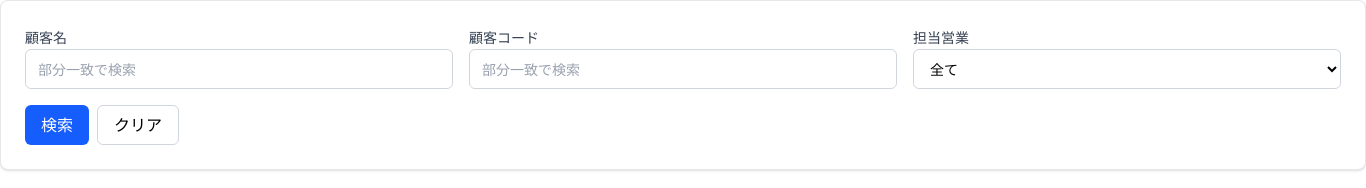
CustomersSearchForm › クリアボタンをクリックすると入力値がリセットされる
The image size is (1366, 188).
Type "株式会社テスト" into the field labelled "顧客名" at [239, 69], box [25,49,453,89]
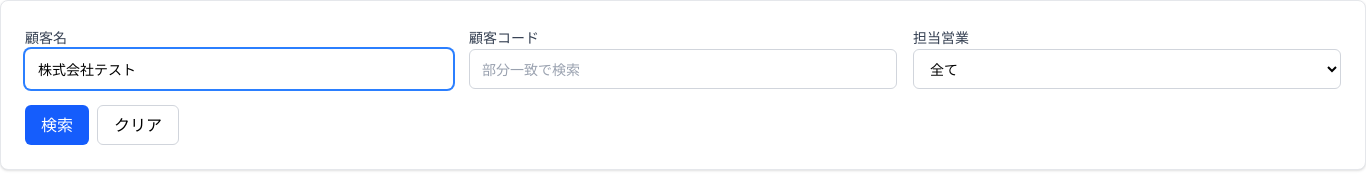
Type "C001" into the field labelled "顧客コード" at [683, 69], box [469,49,897,89]
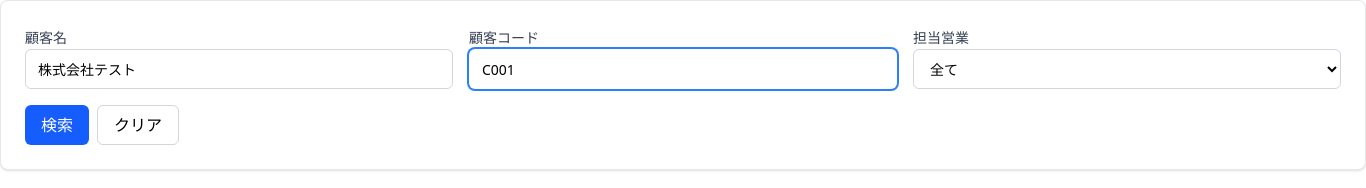
Click the button "クリア" at [138, 125], box [97,105,179,145]
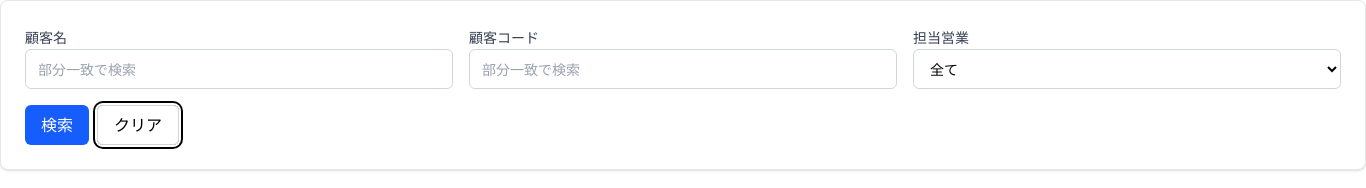
Expected: the field labelled "顧客名" is empty, [25,49,453,89]
Expected: the field labelled "顧客コード" is empty, [469,49,897,89]
